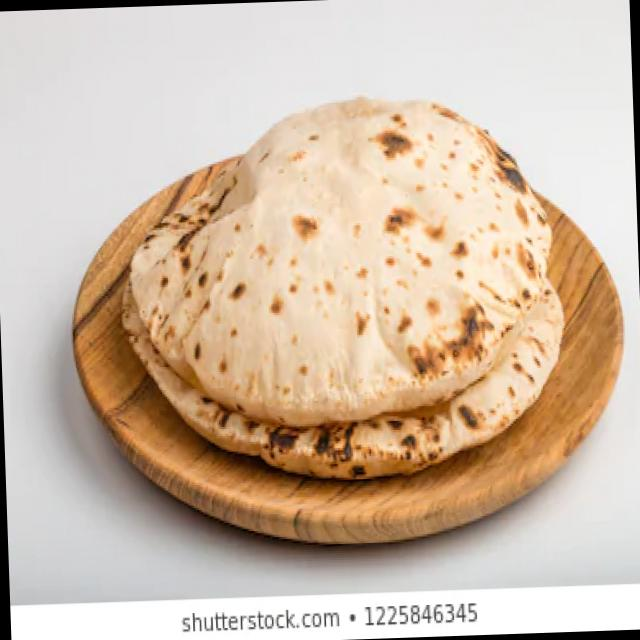roti: (129, 95, 554, 400)
